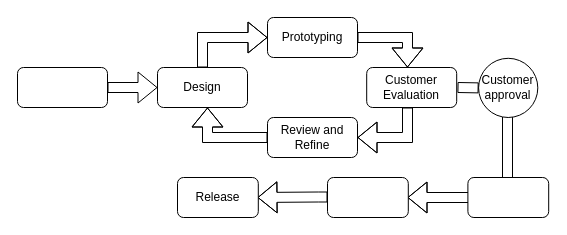
Some shapes in this 567 by 235 pixel diagram are drawn without their labels. Here are the shapes that lost their labels. From the top down, the centre of each, then its label:
the point at 62,87: Requirements analysis
the point at 367,197: Test
the point at 508,197: Develop
